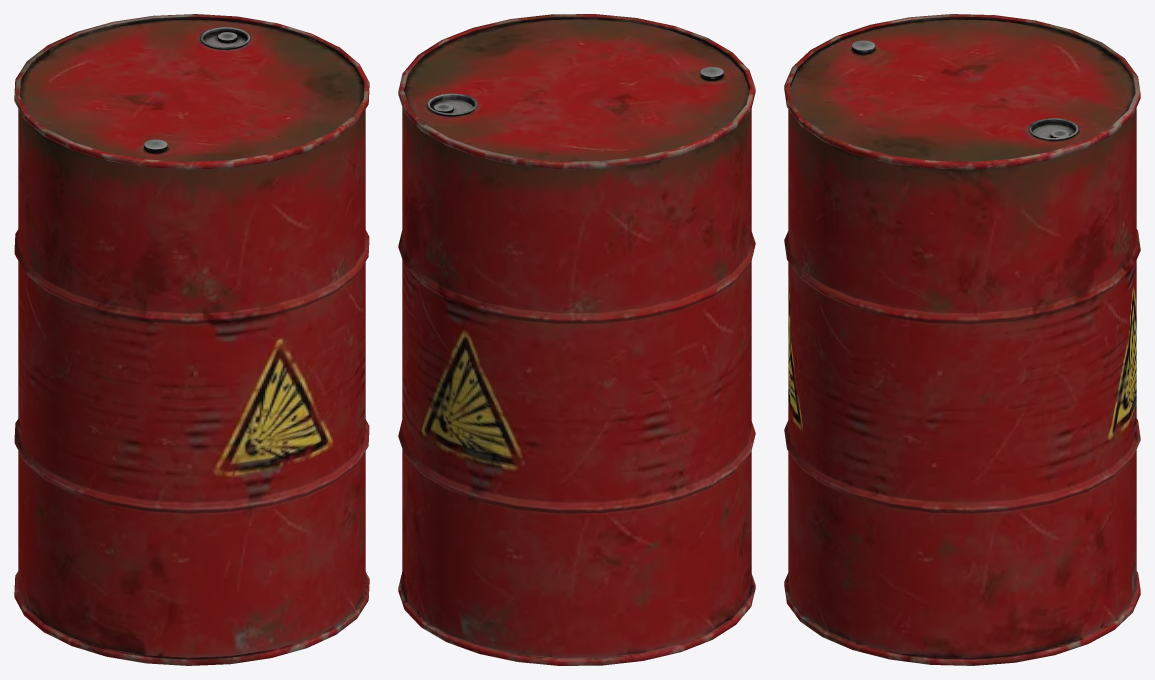
The model's file is Barrel_01.glb.
3 renders of one model, left to right at view 1: azimuth 30°, elevation 25°; view 2: azimuth 150°, elevation 25°; view 3: azimuth 270°, elevation 25°, orthographic.
Parts seen in each view (by area): view 1: Barrel_01; view 2: Barrel_01; view 3: Barrel_01.
Part boxes in pixels (x1=…): Barrel_01: x1=14, y1=14, x2=369, y2=665; Barrel_01: x1=398, y1=14, x2=755, y2=665; Barrel_01: x1=784, y1=14, x2=1140, y2=665.
Bounding box in the file's own units: 0.5631 × 0.88 × 0.5631.
Materials: 1 (1 with a texture image).
